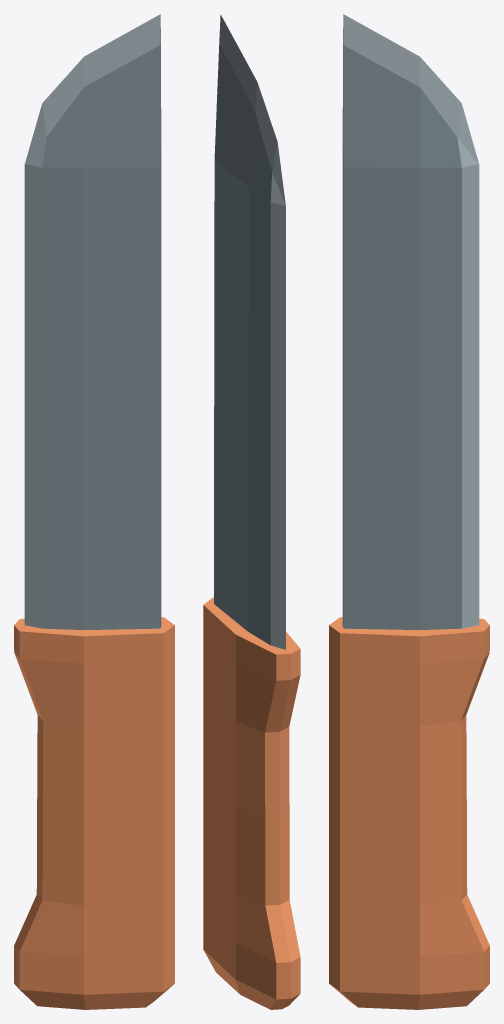
The model's file is Knife_01.gltf.
The picture shows the model from 3 angles, left to right: view 1: azimuth 90°, elevation 25°; view 2: azimuth 210°, elevation 25°; view 3: azimuth 270°, elevation 25°; orthographic projection. The views are drawn at different scales.
Parts seen in each view (by area): view 1: node-0; view 2: node-0; view 3: node-0.
Boxes of the visible parts, <box> form: node-0: <box>14,14,174,1009</box>; node-0: <box>203,14,300,1009</box>; node-0: <box>329,14,489,1009</box>.
Size of the model in its own units: 0.4964 by 10.24 by 1.51.
